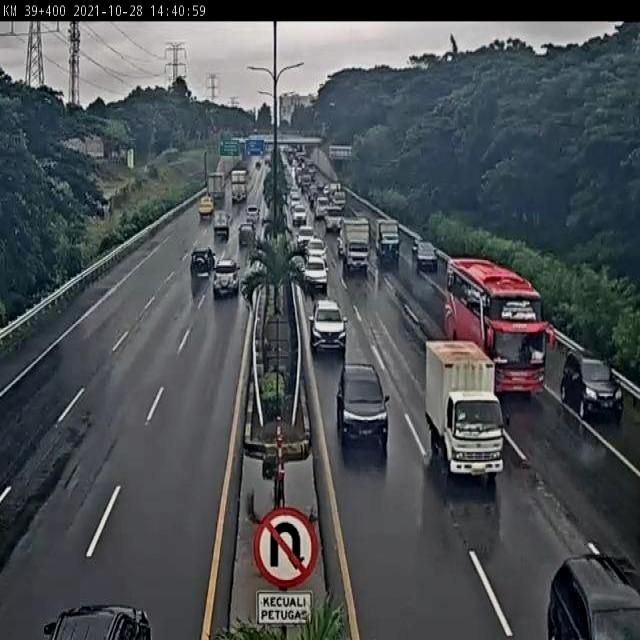Bus: (442, 248, 548, 402)
Car: (546, 549, 640, 638), (338, 363, 390, 446), (560, 353, 622, 422), (42, 603, 154, 639), (309, 299, 348, 354), (212, 257, 241, 298), (302, 256, 329, 295), (190, 245, 216, 275), (413, 241, 438, 272), (306, 237, 327, 265), (295, 223, 316, 249), (238, 221, 255, 247), (246, 204, 260, 223)
Truck: (418, 341, 508, 487), (340, 217, 370, 276), (375, 219, 400, 268), (204, 168, 228, 202), (230, 168, 248, 202), (212, 210, 230, 239), (199, 195, 215, 219)
